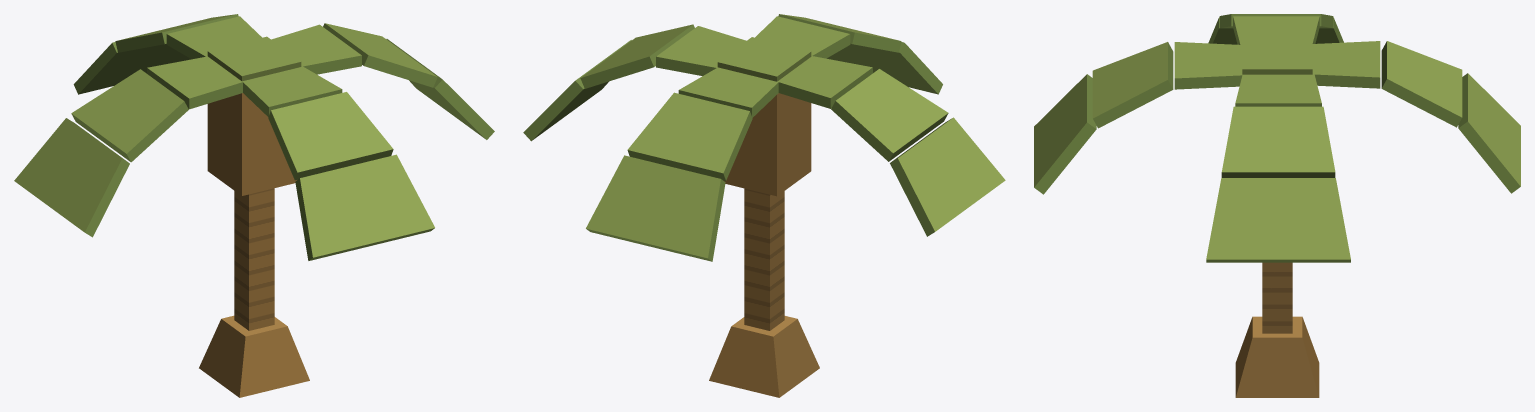
The model's file is SM_Env_Palm_01.fbx.
3 renders of one model, left to right at view 1: azimuth 30°, elevation 25°; view 2: azimuth 150°, elevation 25°; view 3: azimuth 270°, elevation 25°, orthographic. The views are drawn at different scales.
Visible parts, largest first — view 1: SM_Env_Palm_01; view 2: SM_Env_Palm_01; view 3: SM_Env_Palm_01.
Boxes of the visible parts, x1,y1,x2,y2 form: SM_Env_Palm_01: [14, 14, 494, 397]; SM_Env_Palm_01: [523, 14, 1005, 397]; SM_Env_Palm_01: [1034, 14, 1520, 397].
Size of the model in its own units: 6.22 by 4.59 by 6.22.
